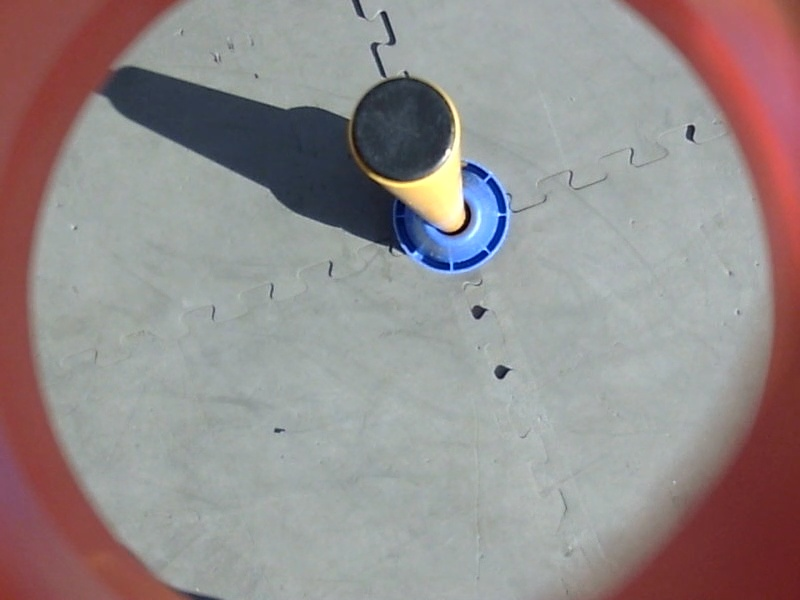tip: (342, 70, 465, 190)
